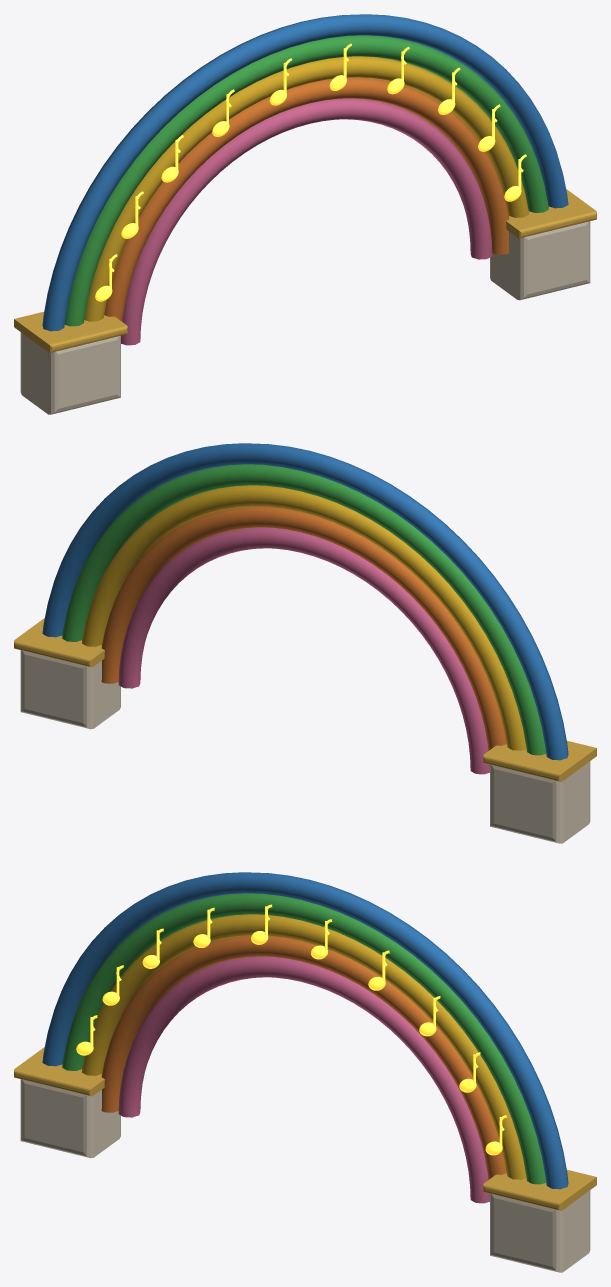
File: rainbowGate.glb
3 renders of one model, top to bottom at view 1: azimuth 30°, elevation 25°; view 2: azimuth 150°, elevation 25°; view 3: azimuth 330°, elevation 25°, orthographic.
Visible parts, largest first — view 1: part_000; view 2: part_000; view 3: part_000.
Part boxes in pixels (left/top/right/bottom): part_000: left=14, top=14, right=596, bottom=414; part_000: left=14, top=443, right=596, bottom=843; part_000: left=14, top=872, right=596, bottom=1272.
Bounding box in the file's own units: 8.4 × 4.65 × 1.
